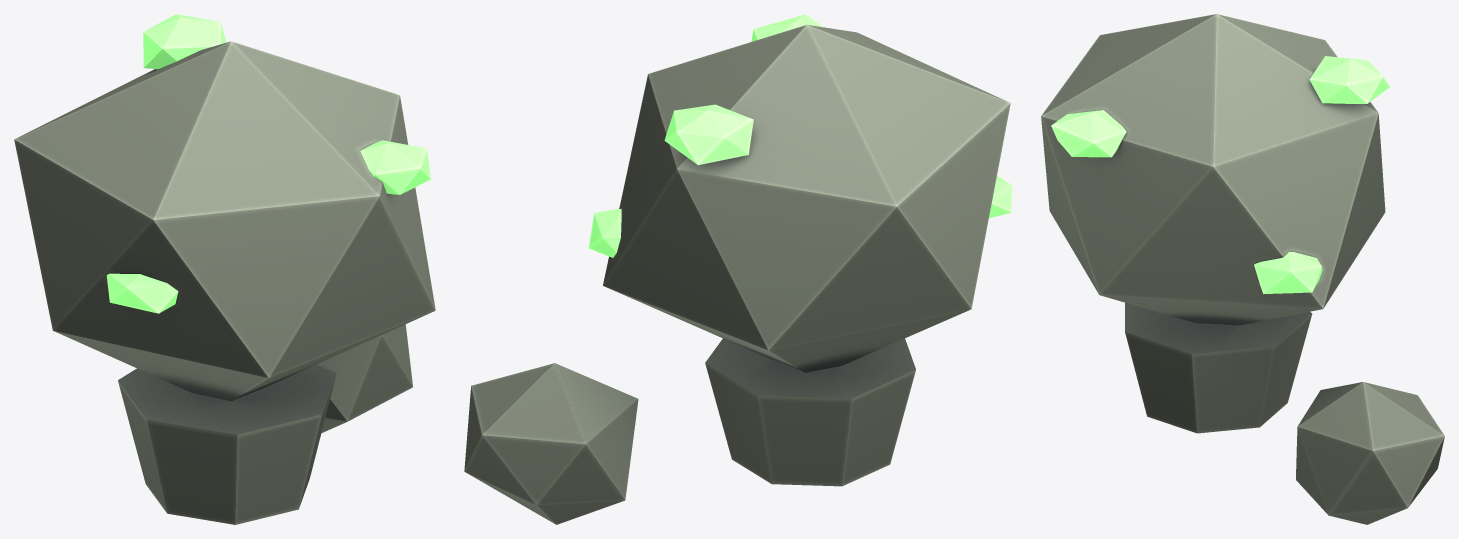
Rendered from obj_puffball.glb.
3 renders of one model, left to right at view 1: azimuth 30°, elevation 25°; view 2: azimuth 150°, elevation 25°; view 3: azimuth 270°, elevation 25°, orthographic. The views are drawn at different scales.
Visible parts, largest first — view 1: obj_puffball; view 2: obj_puffball; view 3: obj_puffball.
Part boxes in pixels (<box>): obj_puffball: <box>14,14,435,524</box>; obj_puffball: <box>464,14,1012,524</box>; obj_puffball: <box>1041,14,1444,524</box>.
Size of the model in its own units: 0.7117 by 0.7815 by 0.6551.
1 material, 1 textured.
